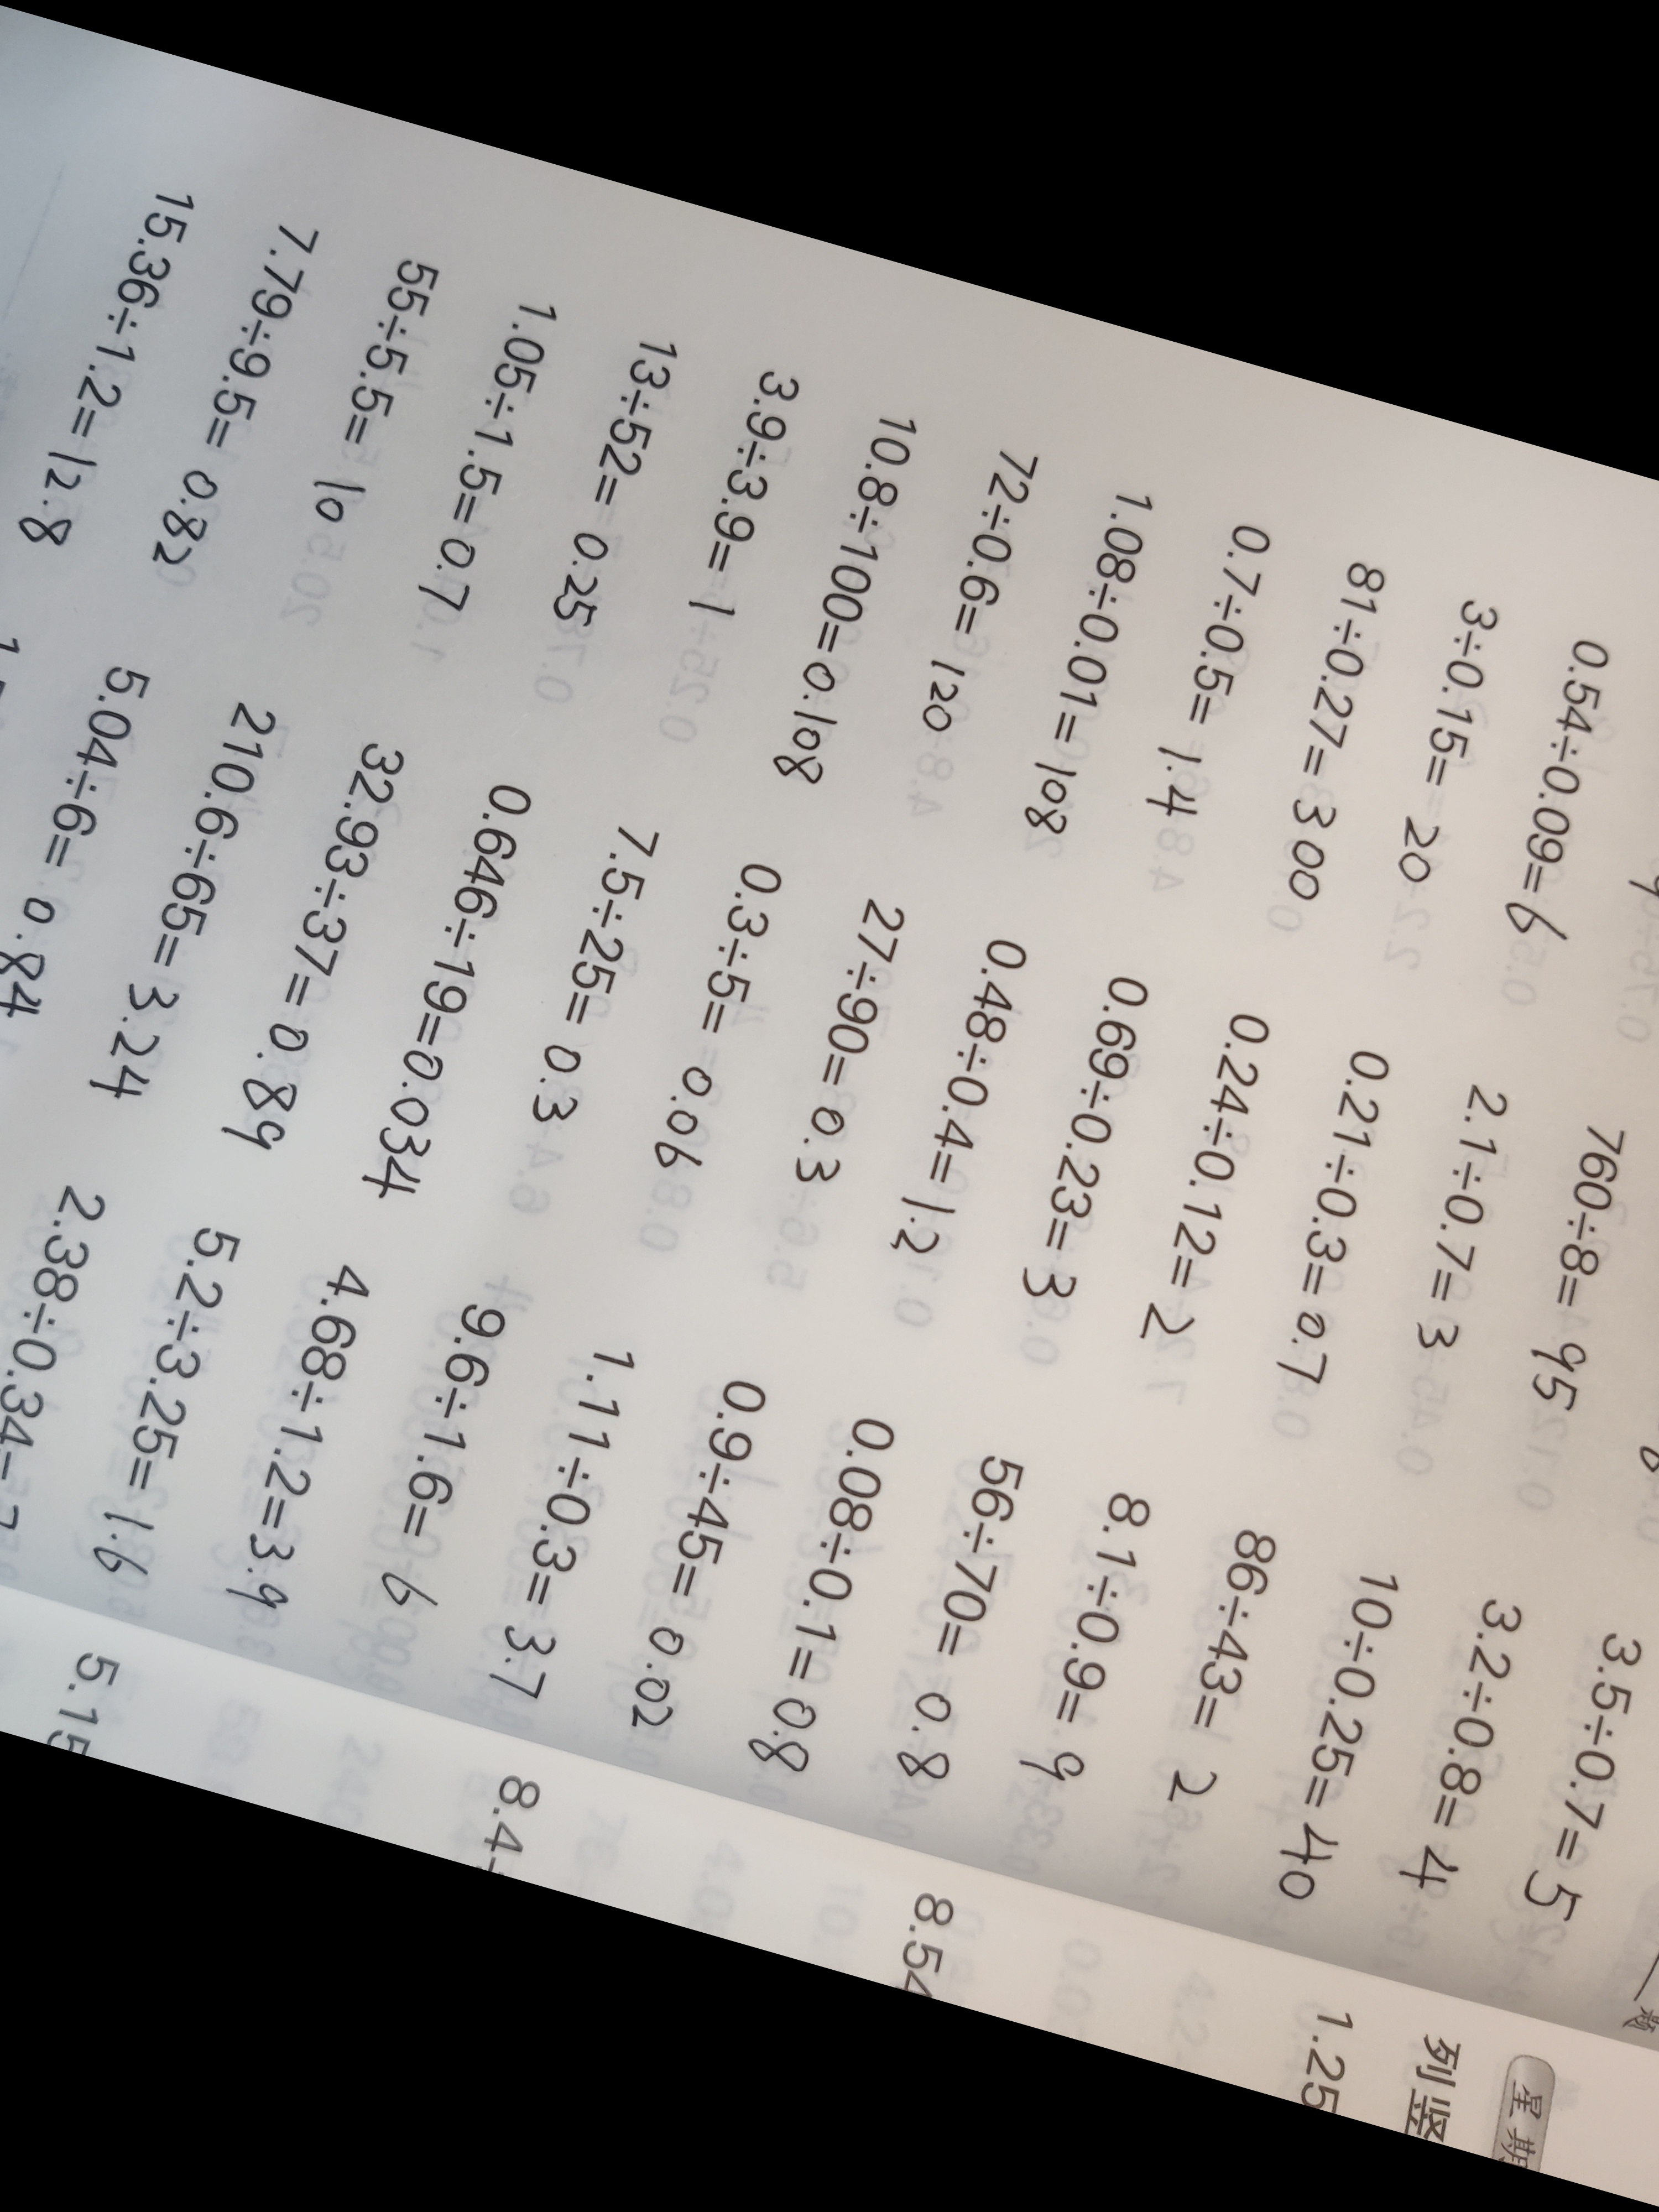equation: (232, 721, 397, 1165), (101, 688, 263, 1120), (371, 766, 528, 1211), (89, 1211, 253, 1602), (26, 172, 183, 556), (770, 402, 922, 794), (751, 1399, 897, 1778), (0, 643, 143, 1029), (488, 1327, 627, 1712), (1267, 1541, 1412, 1911), (166, 209, 303, 585), (230, 1258, 371, 1623), (629, 1374, 769, 1743), (1265, 542, 1401, 914), (1134, 996, 1274, 1359), (641, 846, 784, 1198), (1028, 475, 1161, 843), (1277, 1026, 1410, 1388), (373, 1299, 511, 1634), (894, 1440, 1025, 1792), (896, 918, 1026, 1270), (1018, 963, 1150, 1310), (418, 279, 549, 629), (288, 237, 432, 547), (1399, 1575, 1530, 1909), (1155, 503, 1284, 829), (530, 808, 659, 1134), (789, 890, 922, 1205), (1514, 1615, 1640, 1946), (911, 439, 1044, 747), (1504, 636, 1629, 958), (552, 320, 681, 634), (1387, 577, 1511, 902), (1152, 1508, 1279, 1824), (1514, 1113, 1643, 1423), (0, 1181, 108, 1540), (1028, 1482, 1152, 1792), (1396, 1073, 1518, 1359), (692, 354, 802, 627), (1633, 1155, 1659, 1491), (0, 625, 17, 1047), (1633, 674, 1659, 916)
